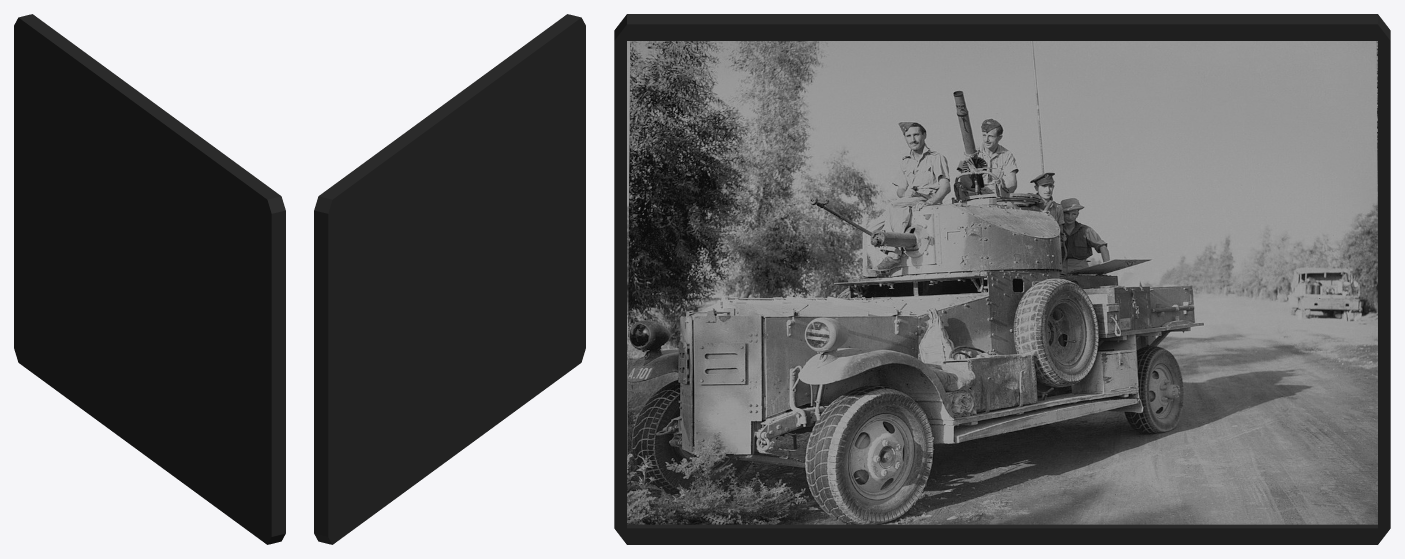
The model's file is painting_britian.fbx.
The picture shows the model from 3 angles, left to right: view 1: azimuth 30°, elevation 25°; view 2: azimuth 150°, elevation 25°; view 3: azimuth 270°, elevation 25°; orthographic projection. The views are drawn at different scales.
Parts seen in each view (by area): view 1: painting britin; view 2: painting britin; view 3: painting britin.
Part boxes in pixels (x1=…): painting britin: x1=14, y1=14, x2=285, y2=544; painting britin: x1=314, y1=14, x2=585, y2=544; painting britin: x1=614, y1=14, x2=1390, y2=544.
Size of the model in its own units: 10.96 by 255 by 345.
2 materials, 1 textured.
